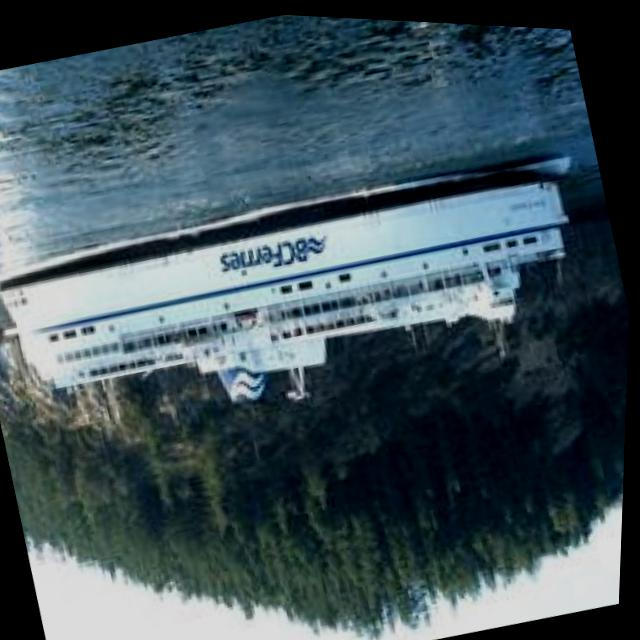ship2: (0, 158, 571, 398)
